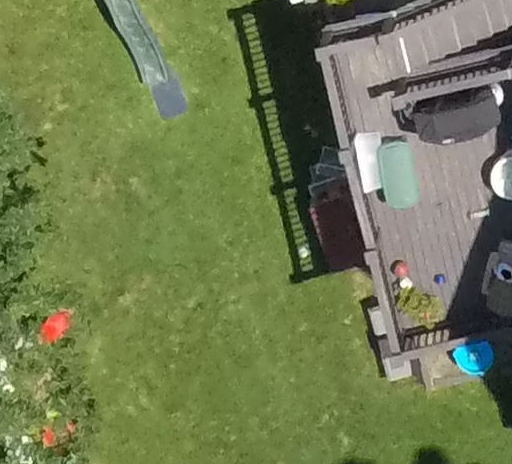container: (371, 135, 420, 209), (434, 272, 447, 286)
